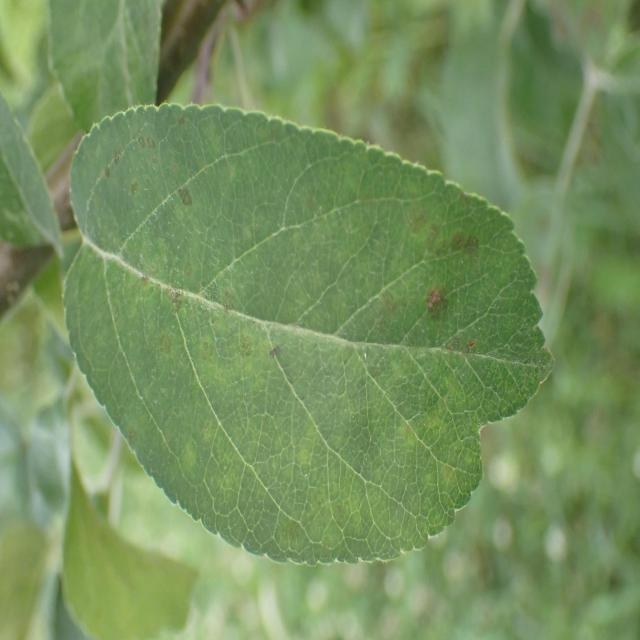scab: (60, 112, 541, 500)
